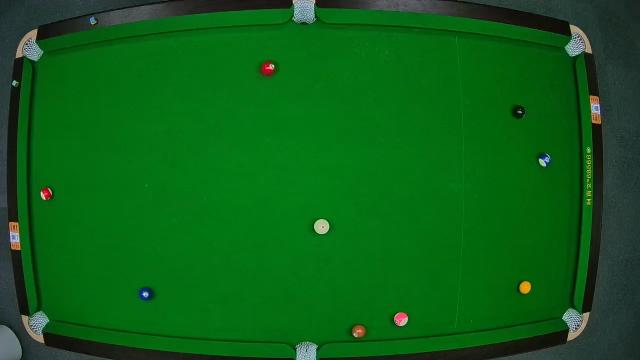bag1: (20, 40, 42, 62)
bag2: (292, 2, 316, 26)
bag4: (29, 311, 49, 333)
bag5: (294, 340, 318, 360)
bag6: (562, 308, 582, 330)
ball0: (314, 219, 331, 235)
ball1: (518, 280, 534, 296)
ball10: (536, 153, 552, 169)
ball11: (40, 187, 52, 201)
ball12: (394, 312, 408, 326)
ball2: (139, 285, 155, 301)
ball3: (261, 60, 277, 76)
ball7: (351, 324, 365, 338)
ball8: (512, 105, 526, 118)
